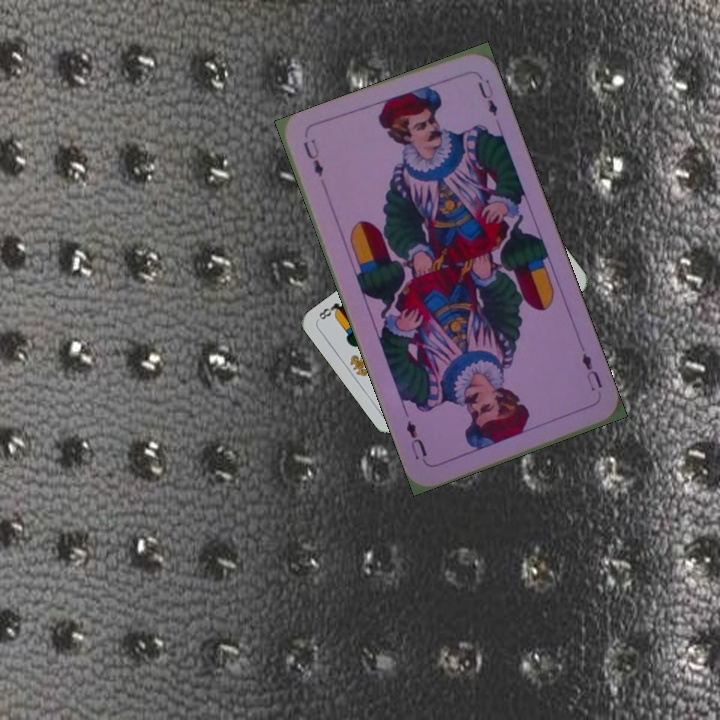EU: (577, 349, 605, 394), (299, 134, 326, 180)
